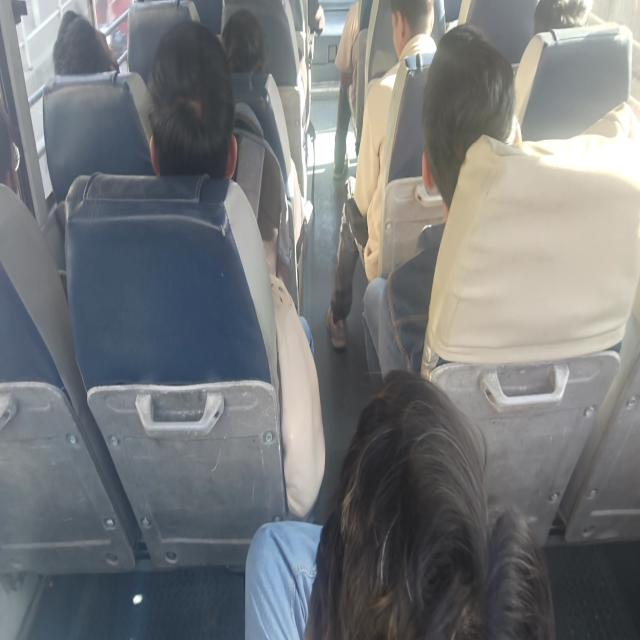person: (361, 23, 639, 385), (244, 368, 556, 638), (146, 19, 316, 359), (326, 0, 437, 351), (146, 19, 238, 180), (220, 8, 290, 188), (332, 0, 360, 178), (52, 10, 120, 76), (533, 0, 593, 35)
